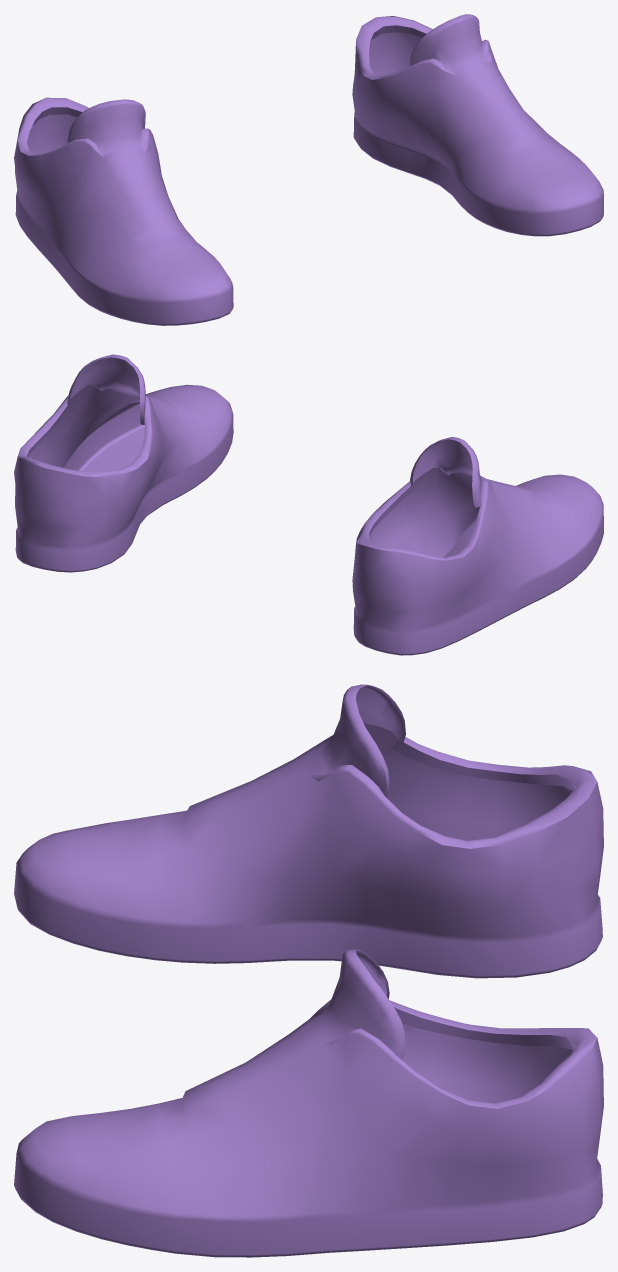
File: shoeslight2.fbx
3 renders of one model, top to bottom at view 1: azimuth 30°, elevation 25°; view 2: azimuth 150°, elevation 25°; view 3: azimuth 270°, elevation 25°, orthographic. The views are drawn at different scales.
Visible parts, largest first — view 1: shoes; view 2: shoes; view 3: shoes.
Part boxes in pixels (x1=…): shoes: x1=14, y1=14, x2=603, y2=325; shoes: x1=14, y1=354, x2=603, y2=655; shoes: x1=14, y1=684, x2=603, y2=1257.
Bounding box in the file's own units: 4388 × 1373 × 2890.
